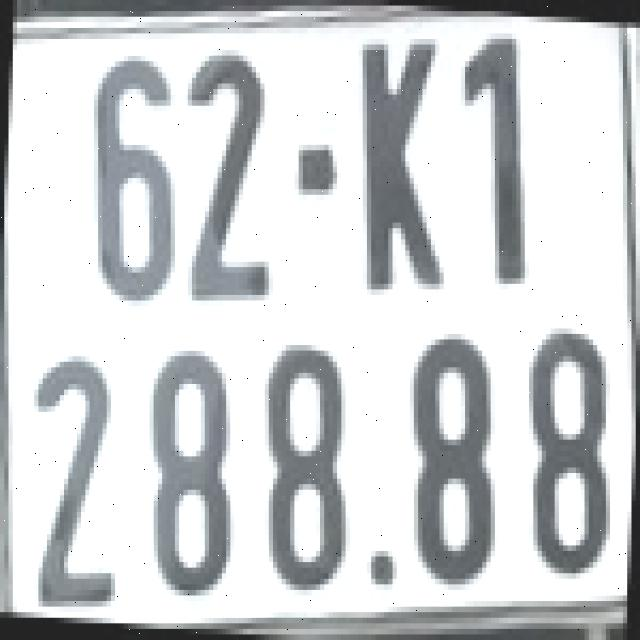1: (460, 33, 538, 284)
2: (186, 45, 275, 306), (30, 350, 119, 606)
6: (90, 50, 175, 301)
8: (410, 328, 499, 584), (149, 342, 235, 598), (264, 339, 350, 590), (527, 326, 612, 576)
K: (358, 33, 444, 295)
